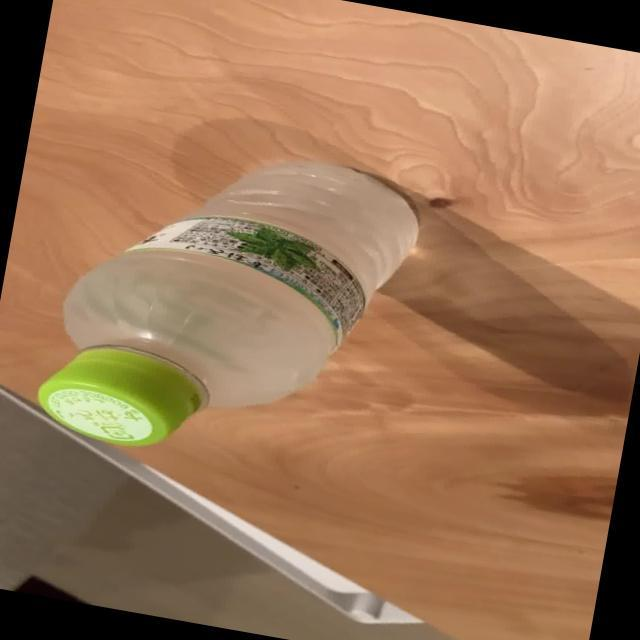good: (26, 114, 430, 490)
